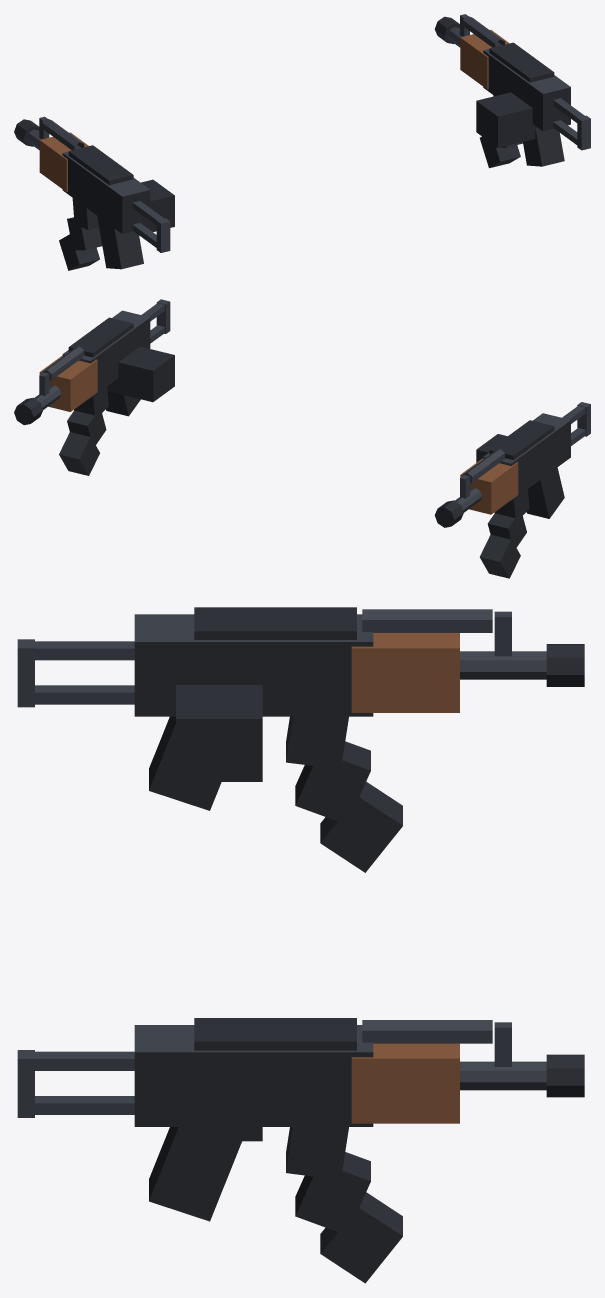
The model's file is G_Mermo_1.fbx.
The picture shows the model from 3 angles, top to bottom: view 1: azimuth 30°, elevation 25°; view 2: azimuth 150°, elevation 25°; view 3: azimuth 270°, elevation 25°; orthographic projection. The views are drawn at different scales.
Parts seen in each view (by area): view 1: G_Mermo_1; view 2: G_Mermo_1; view 3: G_Mermo_1.
Boxes of the visible parts, left/top/right/bottom form: G_Mermo_1: left=14, top=14, right=590, bottom=270; G_Mermo_1: left=14, top=299, right=590, bottom=578; G_Mermo_1: left=17, top=607, right=584, bottom=1283.
Size of the model in its own units: 1.2 by 0.3224 by 0.6568.
